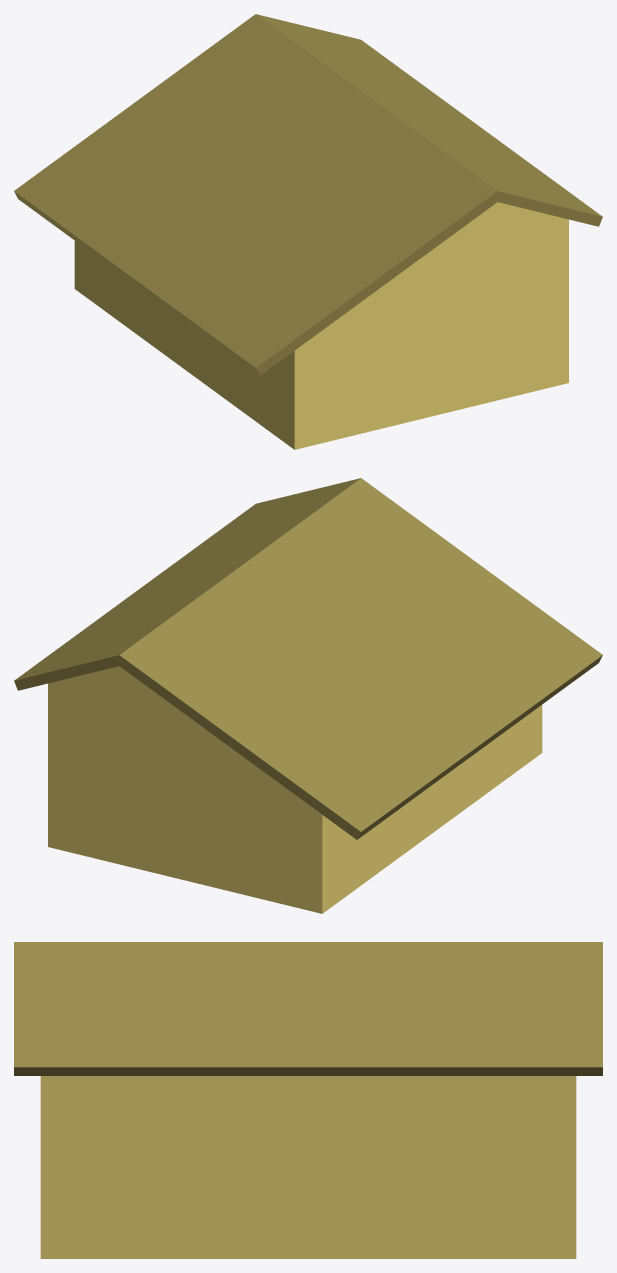
The model's file is result.glb.
3 views of the same model, one above another, from view 1: azimuth 30°, elevation 25°; view 2: azimuth 150°, elevation 25°; view 3: azimuth 270°, elevation 25° (orthographic). The views are drawn at different scales.
Visible parts, largest first — view 1: dce03ada-1888-468e-831a-1c569c82996e__undefined (×2), 29471c27-9995-4662-b953-285d5ea97077__undefined; view 2: dce03ada-1888-468e-831a-1c569c82996e__undefined (×2), 29471c27-9995-4662-b953-285d5ea97077__undefined; view 3: 29471c27-9995-4662-b953-285d5ea97077__undefined, dce03ada-1888-468e-831a-1c569c82996e__undefined.
Boxes of the visible parts, bbox=[...] form: dce03ada-1888-468e-831a-1c569c82996e__undefined (×2): bbox=[14, 14, 602, 375]; 29471c27-9995-4662-b953-285d5ea97077__undefined: bbox=[74, 202, 568, 449]; dce03ada-1888-468e-831a-1c569c82996e__undefined (×2): bbox=[14, 478, 602, 839]; 29471c27-9995-4662-b953-285d5ea97077__undefined: bbox=[48, 666, 542, 913]; 29471c27-9995-4662-b953-285d5ea97077__undefined: bbox=[40, 1076, 576, 1258]; dce03ada-1888-468e-831a-1c569c82996e__undefined: bbox=[14, 942, 602, 1075].
Bounding box in the file's own units: 911 × 552 × 1100.
